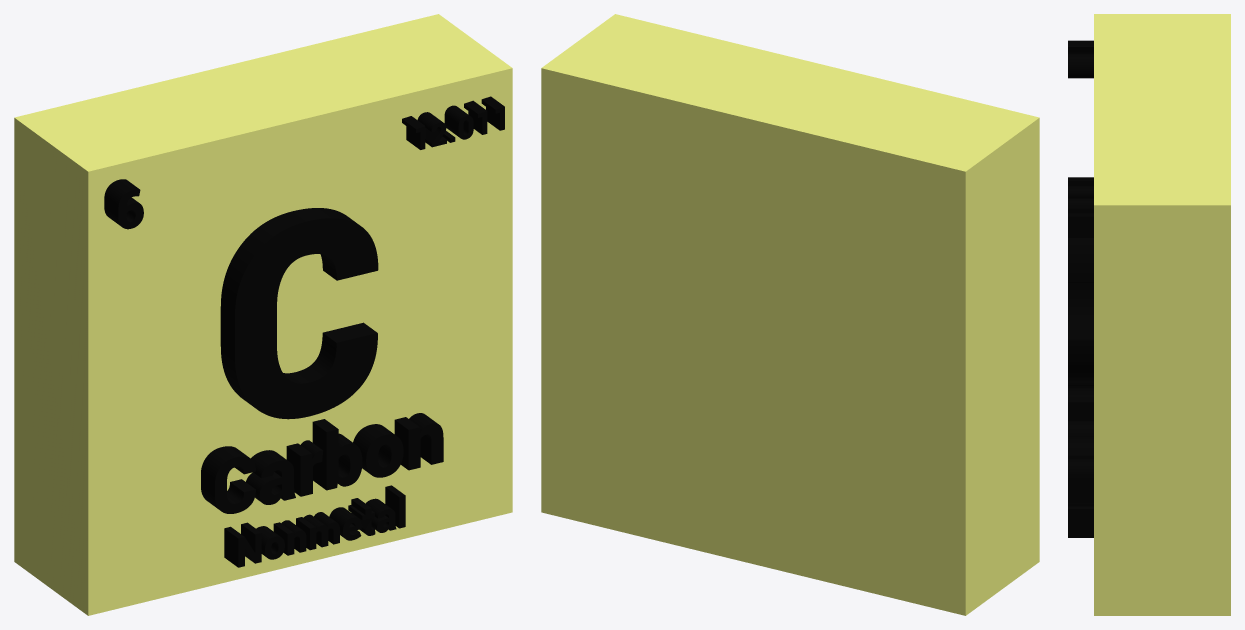
The picture shows the model from 3 angles, left to right: view 1: azimuth 30°, elevation 25°; view 2: azimuth 150°, elevation 25°; view 3: azimuth 270°, elevation 25°; orthographic projection. The views are drawn at different scales.
Parts seen in each view (by area): view 1: Cube, Text, Text.001, Text.002, Text.004, Text.003; view 2: Cube; view 3: Cube, Text, Text.001, Text.004, Text.003, Text.002.
Part boxes in pixels (bbox=[...]): Cube: bbox=[14, 14, 512, 615]; Text: bbox=[220, 208, 378, 419]; Text.001: bbox=[201, 413, 443, 513]; Text.002: bbox=[224, 485, 405, 567]; Text.004: bbox=[402, 96, 504, 149]; Text.003: bbox=[104, 179, 143, 229]; Cube: bbox=[541, 14, 1039, 615]; Cube: bbox=[1094, 14, 1230, 615]; Text: bbox=[1068, 238, 1093, 380]; Text.001: bbox=[1068, 380, 1093, 503]; Text.004: bbox=[1068, 177, 1093, 237]; Text.003: bbox=[1068, 40, 1093, 78]; Text.002: bbox=[1068, 503, 1093, 537].
Bounding box in the file's own units: 178 × 178 × 63.95.
